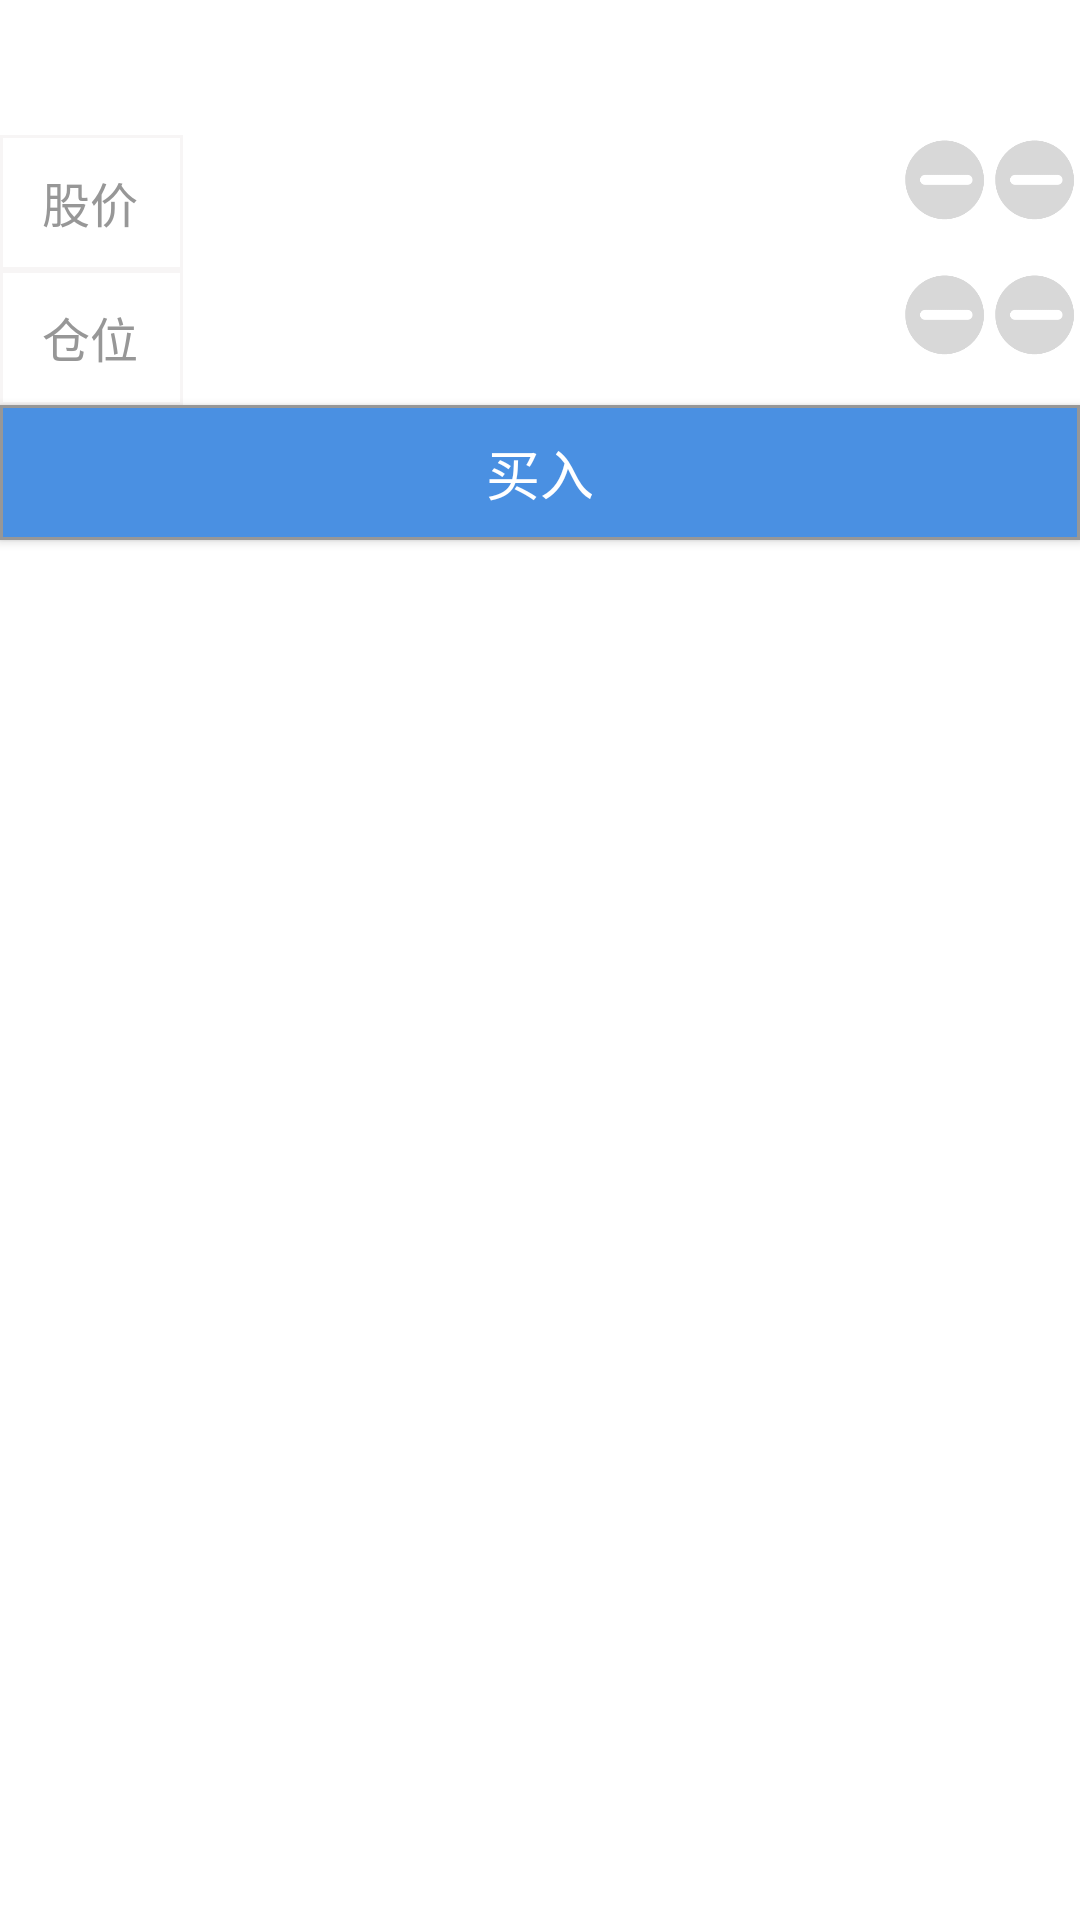

Icon click points for this 1080 x 1920 phone screenshot, format (x=x, y=y):
decrease: (x=944, y=180), (x=1034, y=180), (x=944, y=315), (x=1034, y=315)
